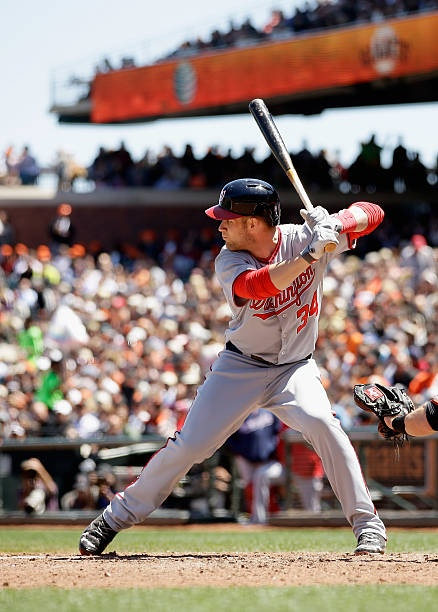bita: (247, 93, 335, 249)
